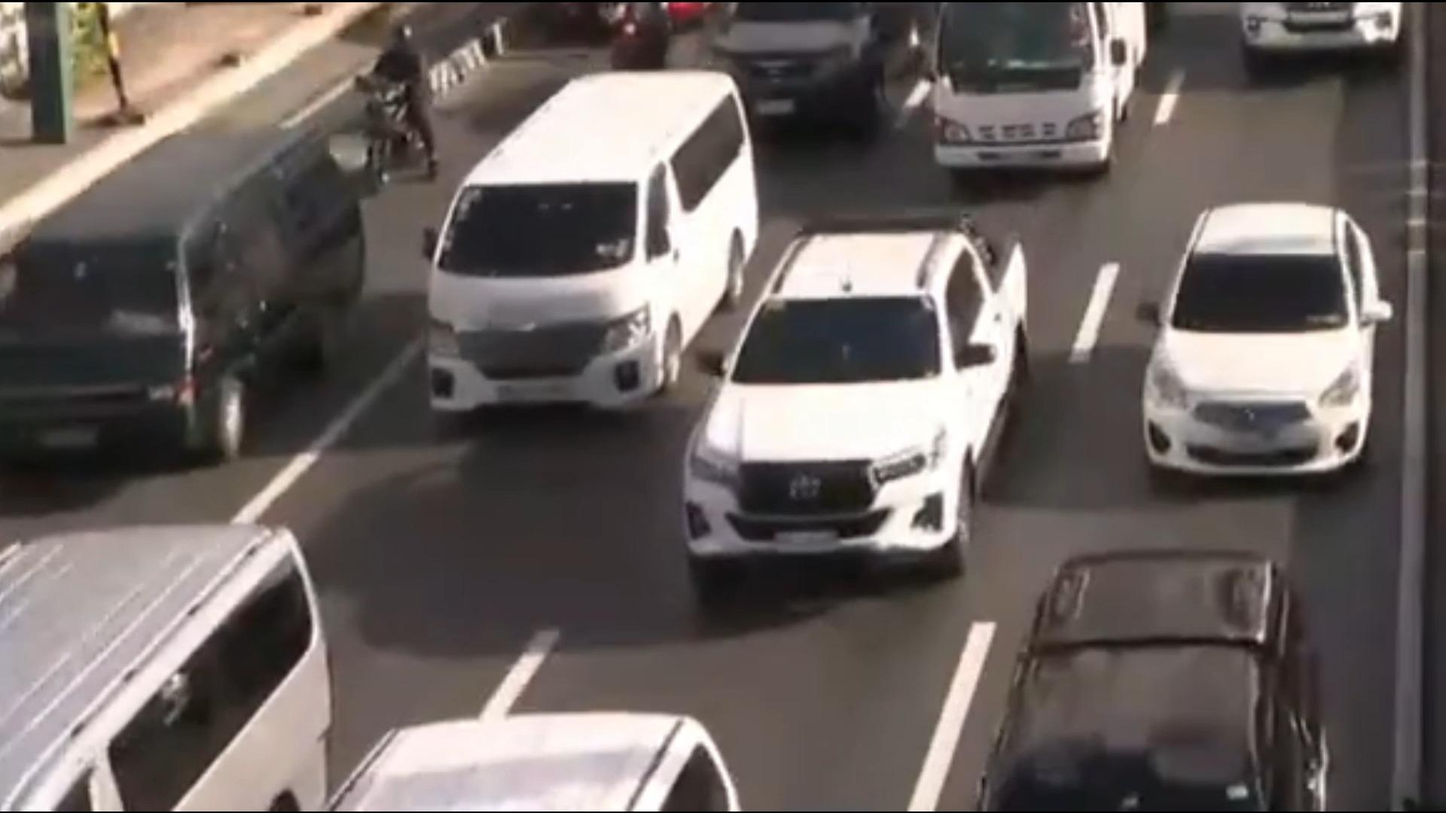Motorcycle: (353, 10, 465, 200), (600, 0, 689, 51)
Pickup: (662, 172, 1092, 607)
SUV: (972, 529, 1396, 813)
Sedan: (1073, 183, 1428, 521)
Truck: (911, 0, 1155, 175)
Van: (397, 72, 795, 456), (0, 134, 396, 458), (0, 503, 388, 813)
